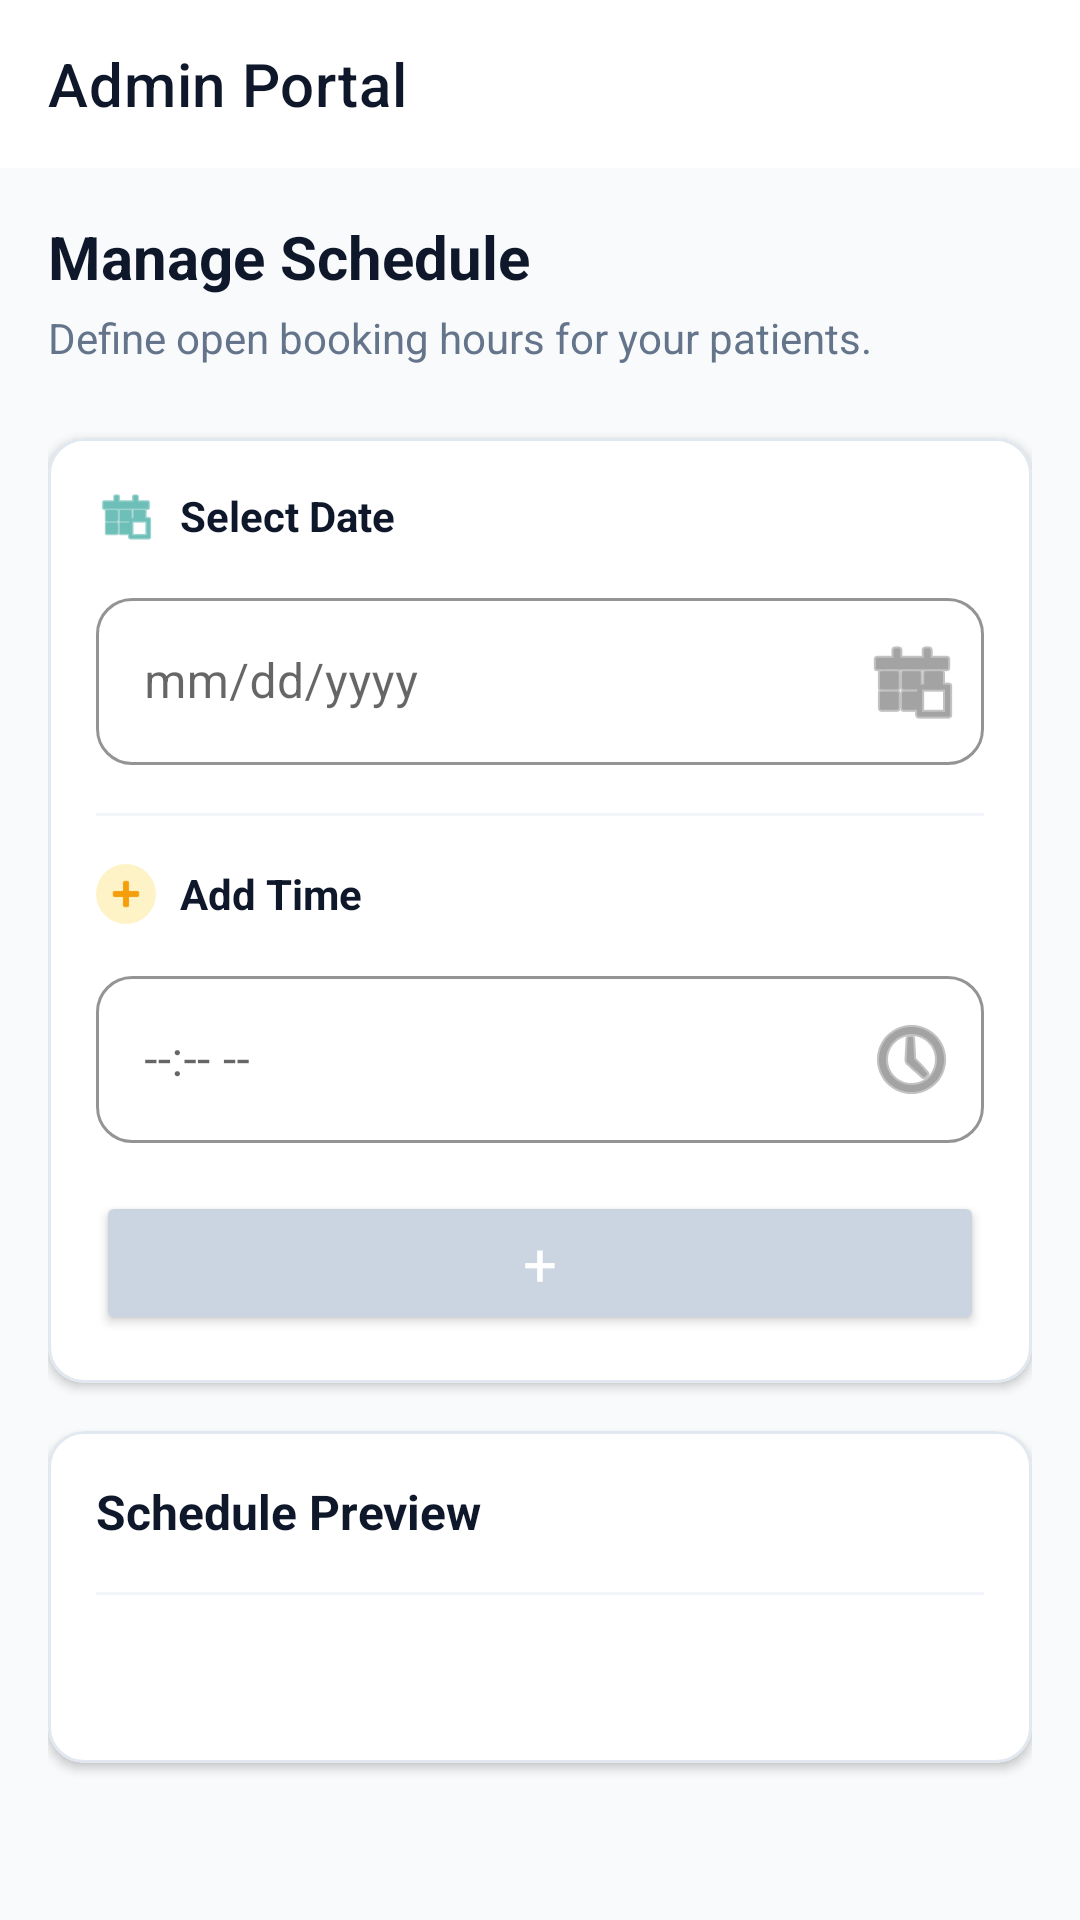

Where icons sit on this 1080 × 1920 app screen, as (x1, y1, x2, y2):
today: (102, 494, 151, 540)
